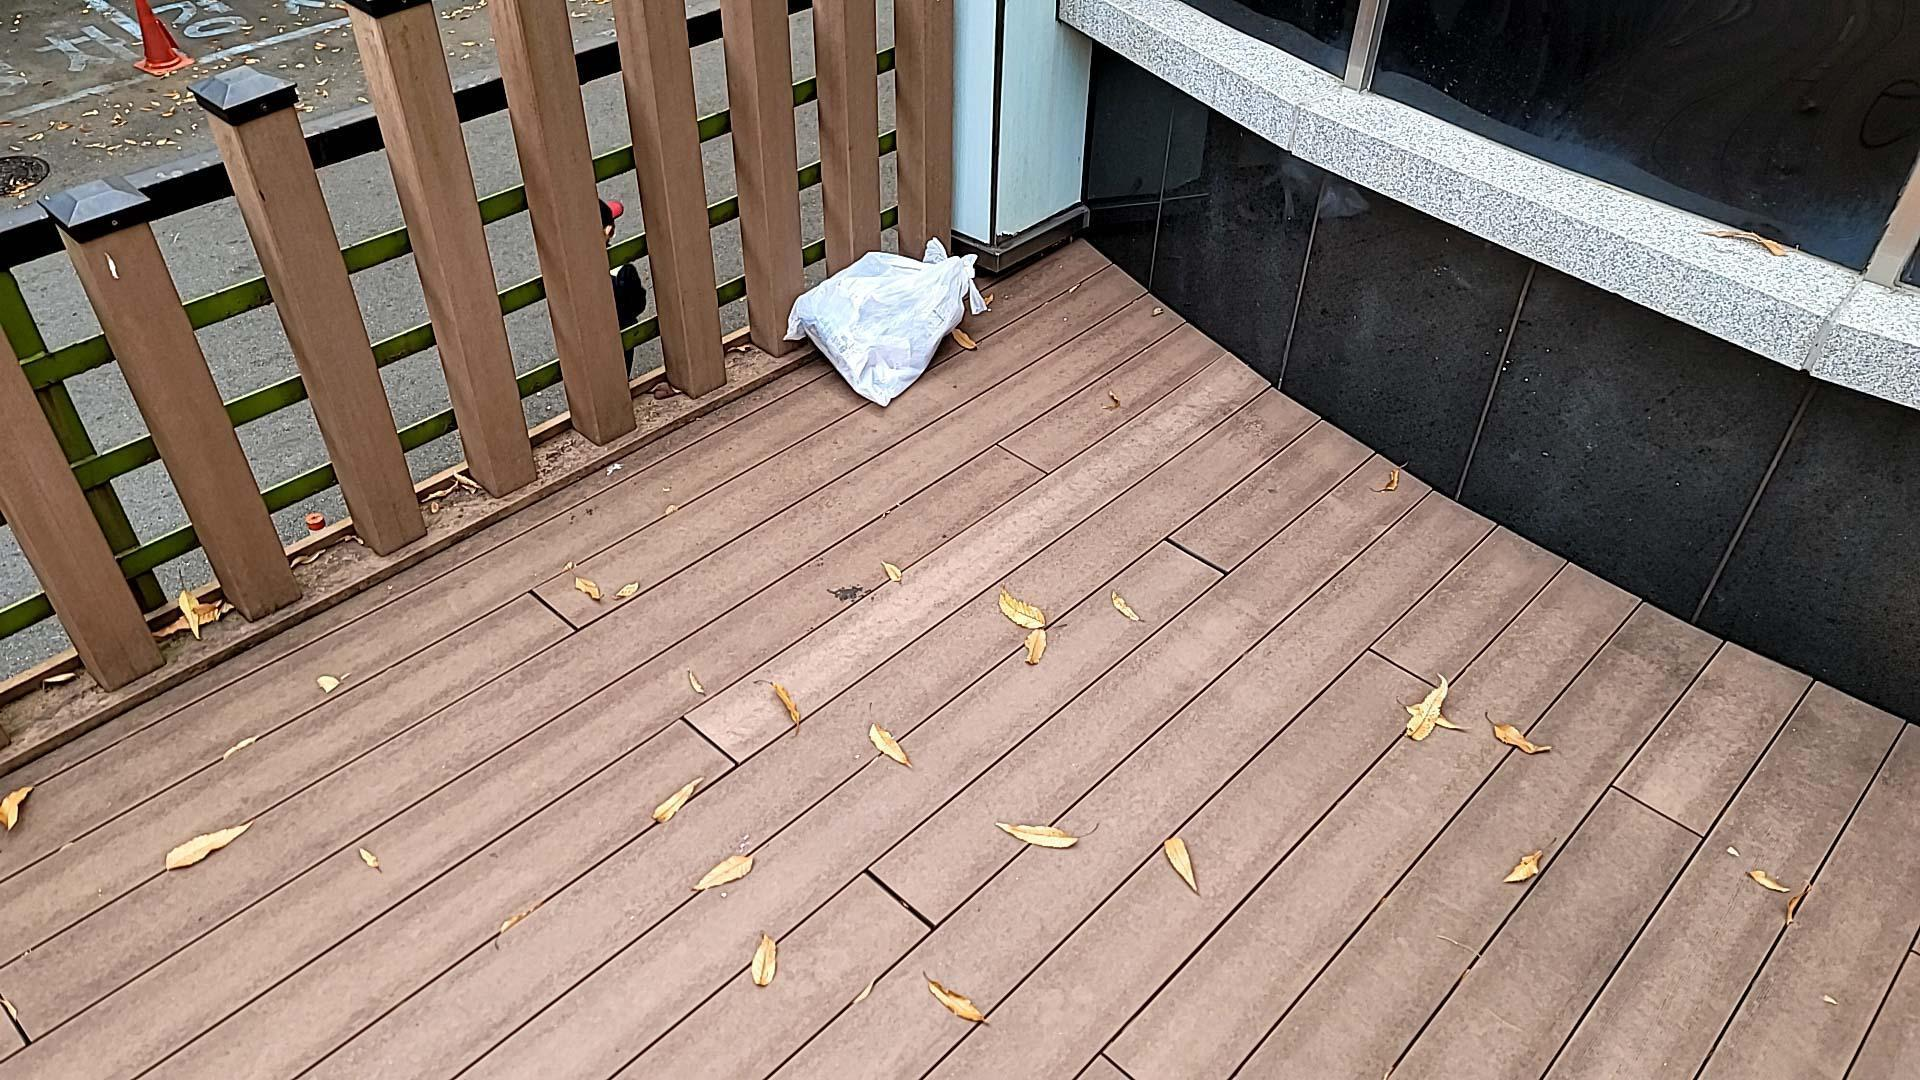white_bag: (765, 218, 1000, 413)
